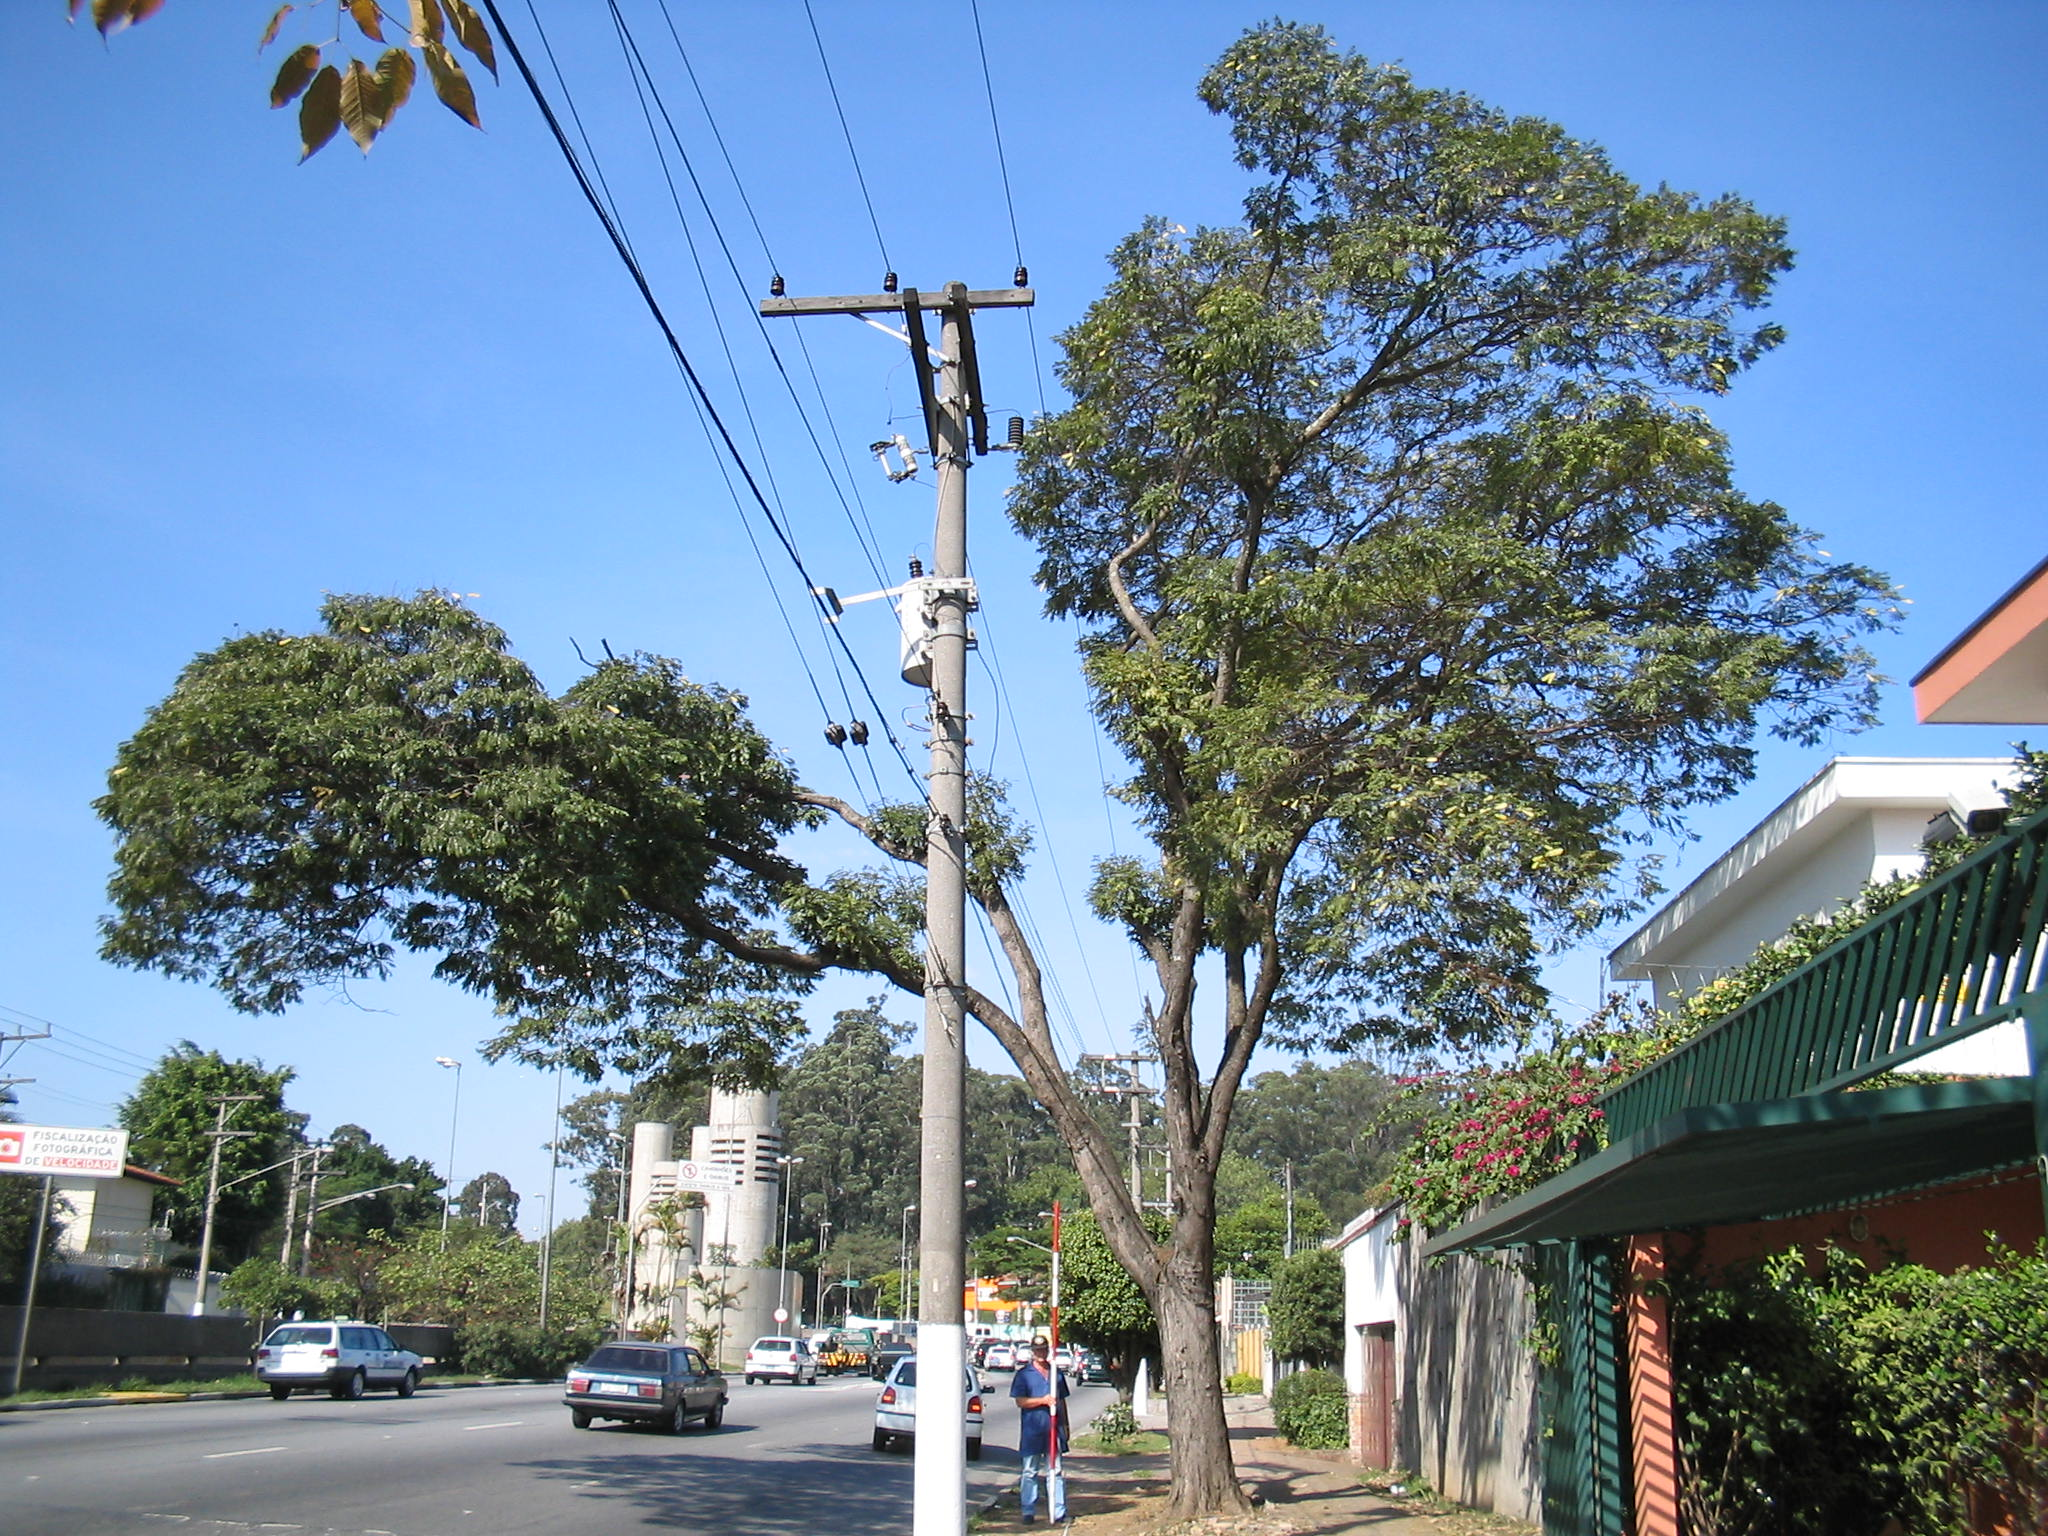crown: (102, 27, 1901, 1117)
stem: (1111, 1267, 1285, 1517)
stick: (1039, 1199, 1071, 1533)
tree: (97, 23, 1904, 1520)
